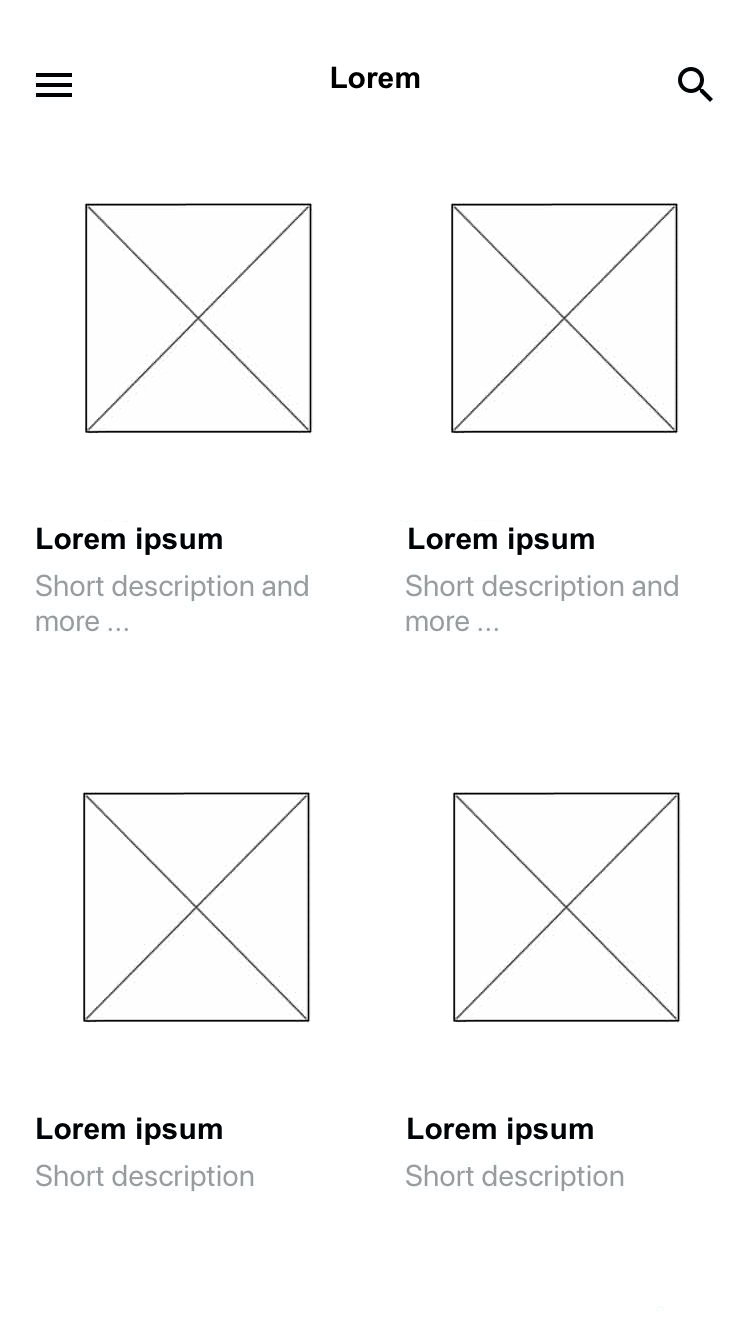Icon: (677, 67, 714, 104), (36, 73, 74, 99)
Image: (83, 791, 312, 1024), (450, 203, 679, 435), (452, 791, 681, 1023), (85, 203, 314, 434)
Text: (405, 573, 679, 633), (35, 574, 310, 633), (405, 1163, 625, 1193), (35, 1163, 255, 1192), (408, 525, 596, 557), (37, 525, 224, 557), (37, 1116, 225, 1147), (406, 1116, 594, 1146), (332, 67, 421, 91)
